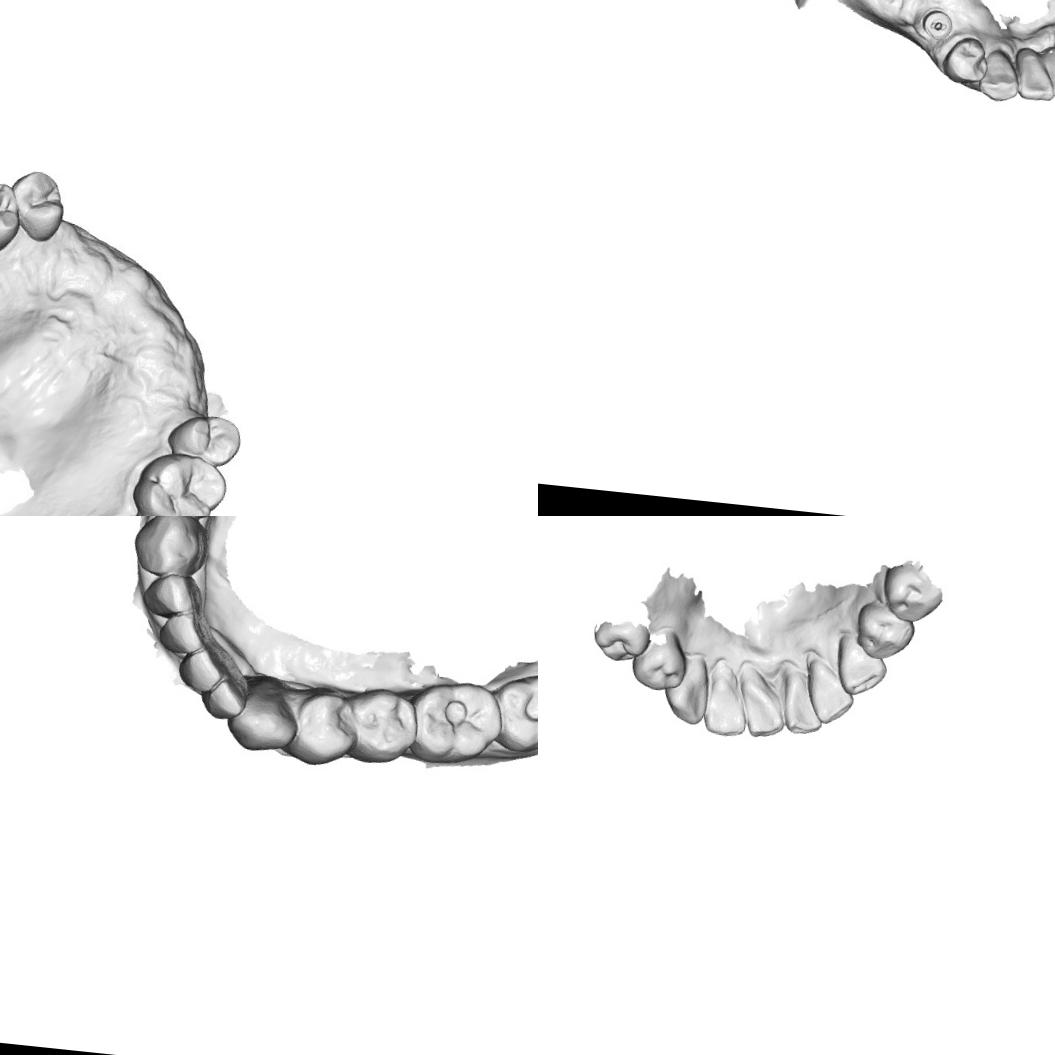canine: (226, 676, 302, 756), (129, 516, 213, 581), (832, 632, 888, 698), (663, 658, 712, 726), (977, 45, 1024, 103)
implant_minus: (919, 6, 954, 43)
incisor: (781, 668, 831, 738), (805, 662, 858, 728), (153, 610, 215, 662), (739, 679, 788, 744), (141, 570, 202, 622), (702, 674, 750, 739), (176, 646, 230, 696), (1013, 53, 1055, 103), (203, 674, 245, 723), (1041, 58, 1055, 103)
molar: (409, 675, 504, 770), (128, 448, 230, 516), (488, 671, 538, 761)
premolar: (344, 684, 419, 768), (290, 688, 358, 768), (5, 167, 68, 244), (164, 411, 243, 469), (852, 597, 916, 662), (878, 560, 942, 624), (629, 637, 690, 694), (587, 616, 652, 666), (938, 32, 992, 86), (0, 178, 24, 254)
